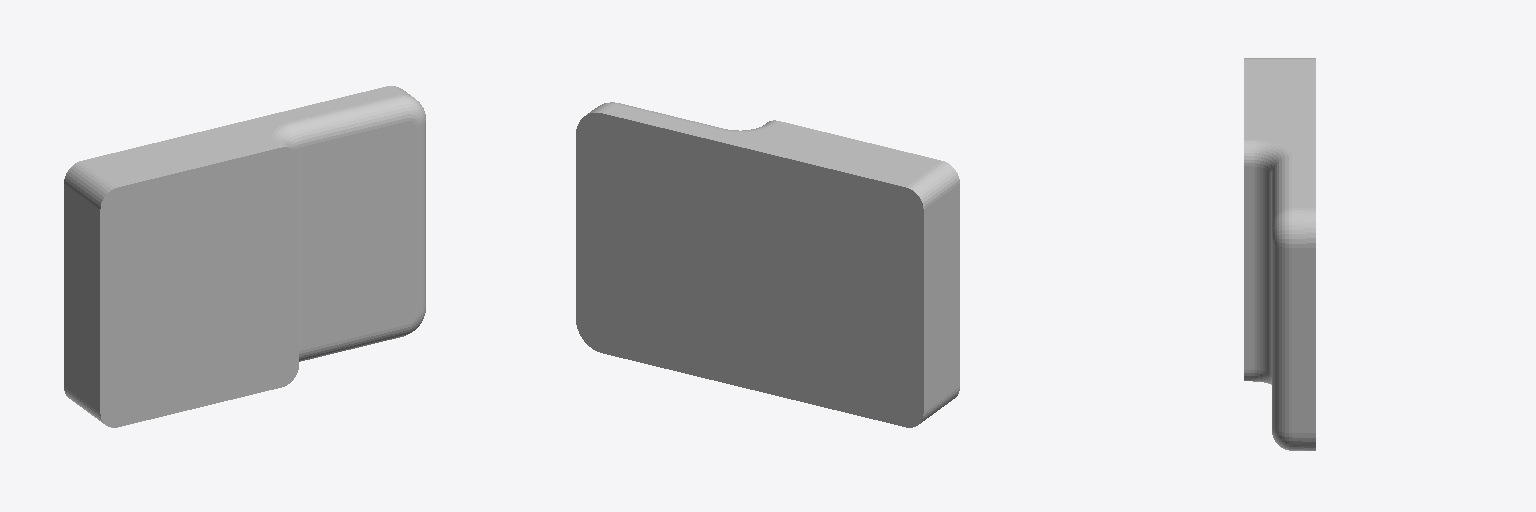
The model's file is torso_fix.obj.
3 renders of one model, left to right at view 1: azimuth 30°, elevation 25°; view 2: azimuth 150°, elevation 25°; view 3: azimuth 270°, elevation 25°, orthographic.
Visible parts, largest first — view 1: <STL_BINARY>; view 2: <STL_BINARY>; view 3: <STL_BINARY>.
Part boxes in pixels (left/top/right/bottom): <STL_BINARY>: left=64, top=86, right=425, bottom=427; <STL_BINARY>: left=576, top=102, right=959, bottom=427; <STL_BINARY>: left=1244, top=58, right=1315, bottom=450.
Size of the model in its own units: 0.397 by 0.262 by 0.072.